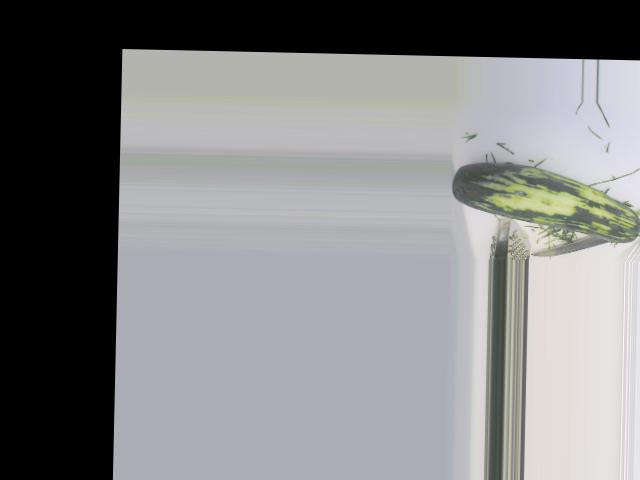cucumber: (451, 161, 640, 243)
